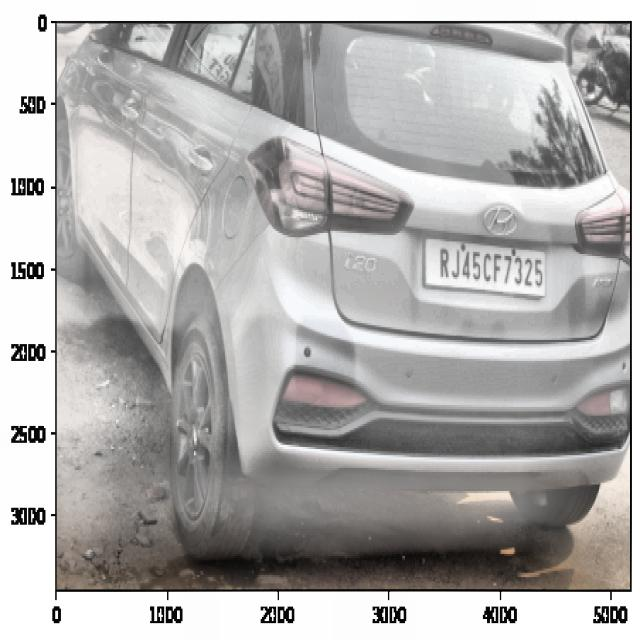license_plate: (433, 238, 546, 294)
